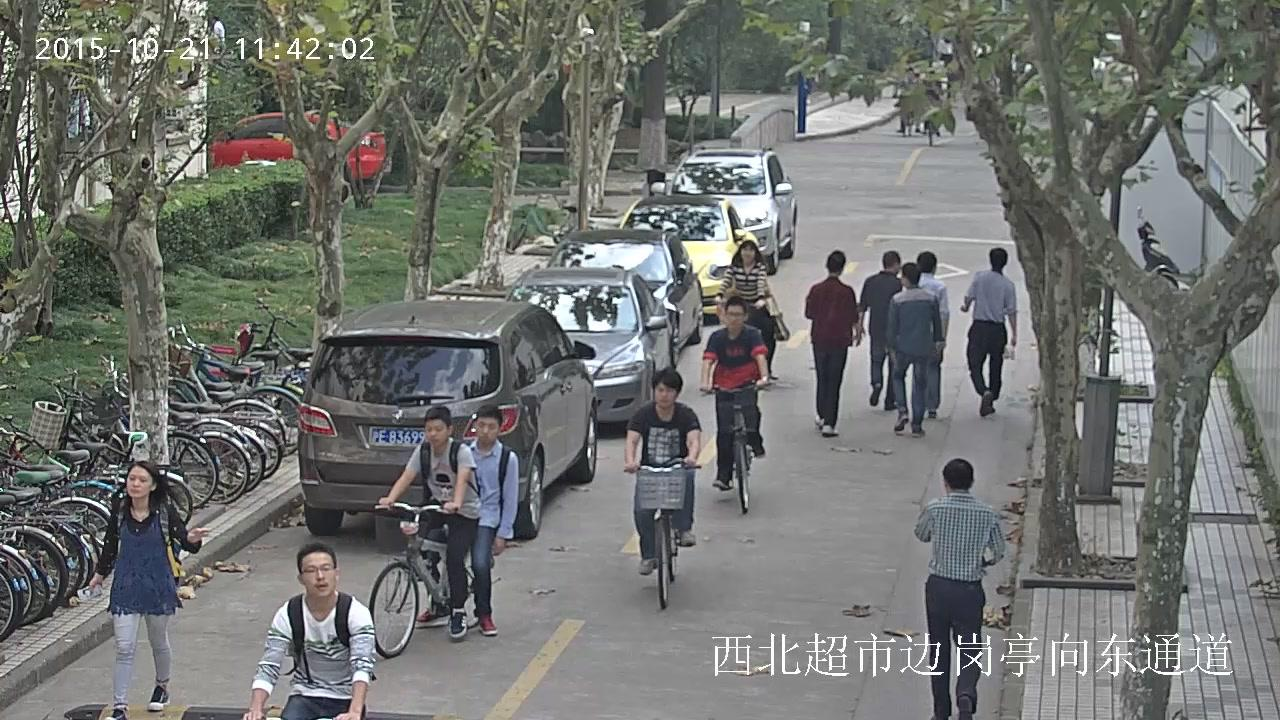person: (75, 462, 209, 719), (367, 406, 479, 658), (241, 543, 376, 720), (914, 458, 1003, 720), (380, 406, 479, 641), (624, 366, 701, 609), (624, 366, 701, 574), (701, 296, 766, 513), (701, 297, 767, 491), (471, 405, 520, 634), (804, 249, 860, 437), (717, 239, 790, 381), (960, 247, 1016, 415), (888, 262, 940, 438), (860, 251, 902, 409), (917, 251, 947, 363)
